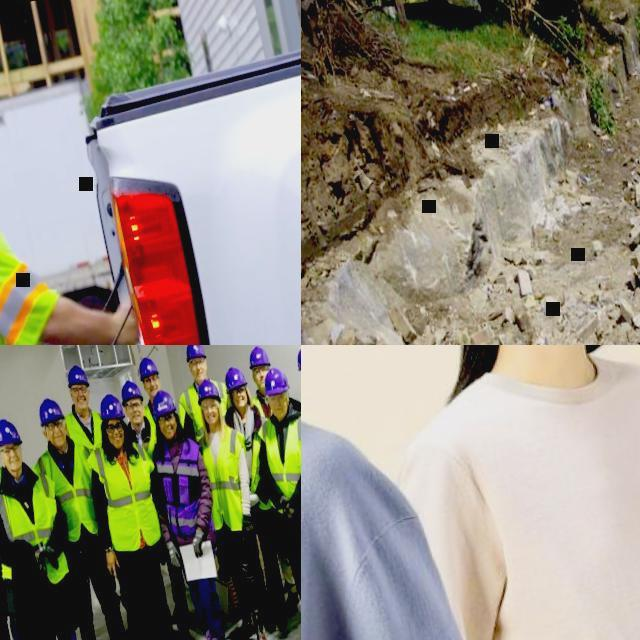helmet: (36, 394, 67, 426), (95, 391, 126, 422), (261, 364, 291, 396), (149, 387, 178, 417), (194, 376, 222, 406), (220, 363, 248, 392), (0, 414, 23, 449), (118, 377, 144, 406), (64, 362, 90, 390), (246, 345, 272, 370), (136, 354, 160, 380), (182, 345, 208, 361), (293, 345, 301, 369)
no_mask: (4, 453, 24, 472), (108, 430, 126, 449), (48, 429, 68, 446), (161, 422, 179, 440), (73, 394, 91, 412), (190, 366, 209, 382), (271, 402, 288, 419), (128, 409, 145, 426), (203, 410, 220, 426), (233, 394, 249, 410), (146, 382, 162, 397), (254, 376, 268, 390)
no_vest: (433, 351, 640, 640)
person: (323, 345, 640, 640), (0, 45, 193, 345), (301, 345, 482, 640), (74, 384, 199, 640), (17, 387, 140, 640), (133, 384, 248, 640), (166, 345, 272, 610), (184, 372, 287, 640), (54, 361, 146, 640), (0, 407, 108, 640), (111, 373, 203, 640), (215, 361, 301, 640), (132, 354, 209, 622), (237, 345, 301, 616), (239, 361, 301, 640), (0, 404, 44, 640), (280, 345, 301, 603)
vehicle: (0, 40, 301, 345)
vest: (0, 183, 78, 345), (84, 432, 170, 556), (0, 457, 74, 592), (27, 434, 112, 548), (196, 422, 262, 536), (150, 434, 218, 540), (254, 408, 301, 521), (236, 412, 286, 514), (176, 376, 236, 440), (61, 407, 108, 455), (142, 394, 190, 436), (124, 414, 160, 459), (0, 461, 13, 519), (252, 394, 274, 421)
